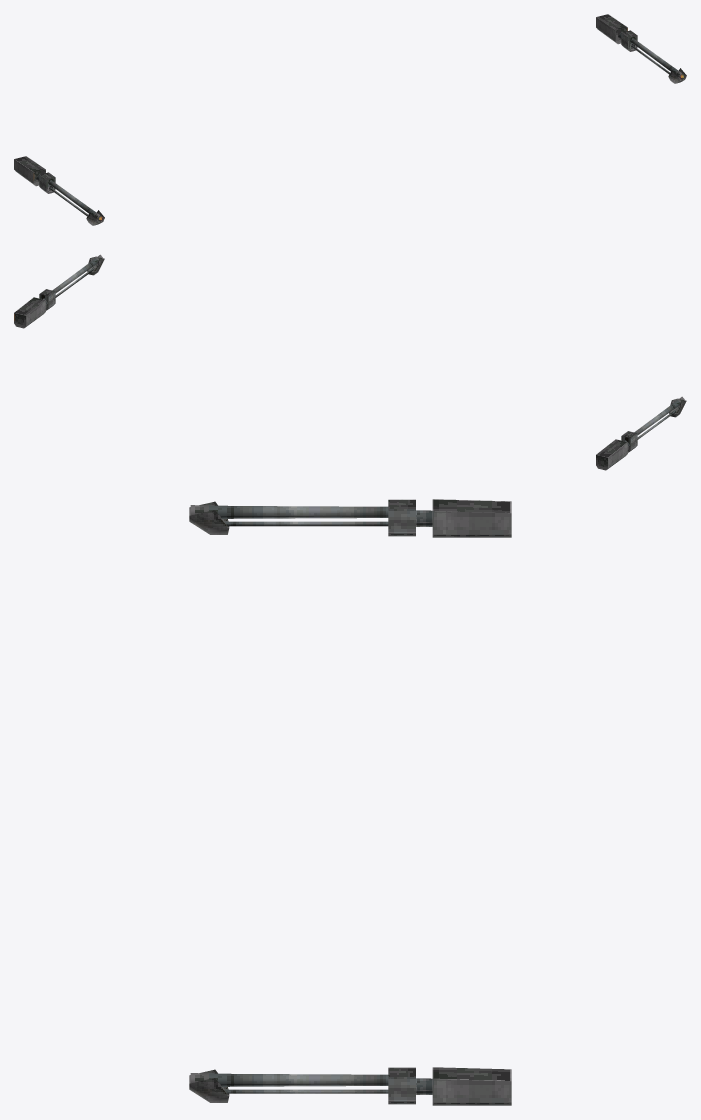
The model's file is hutt_fighter_heavy_weapon2_s06_l2.fbx.
The picture shows the model from 3 angles, top to bottom: view 1: azimuth 30°, elevation 25°; view 2: azimuth 150°, elevation 25°; view 3: azimuth 270°, elevation 25°; orthographic projection. The views are drawn at different scales.
Visible parts, largest first — view 1: mesh_node; view 2: mesh_node; view 3: mesh_node.
Part boxes in pixels (x1,y1,x2,y2): mesh_node: (14,14,686,225); mesh_node: (14,254,686,470); mesh_node: (189,499,511,1105).
Size of the model in its own units: 26.52 by 0.6332 by 6.24.
